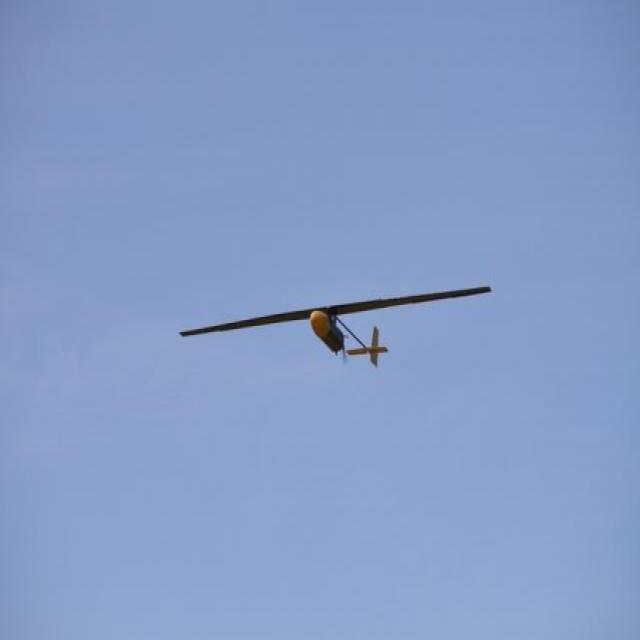UAV: (192, 268, 494, 368)
